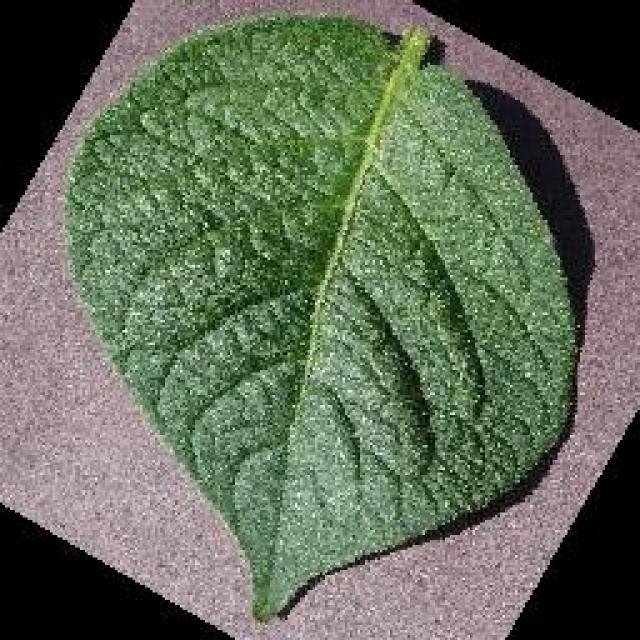Potato___healthy: (58, 12, 585, 620)
